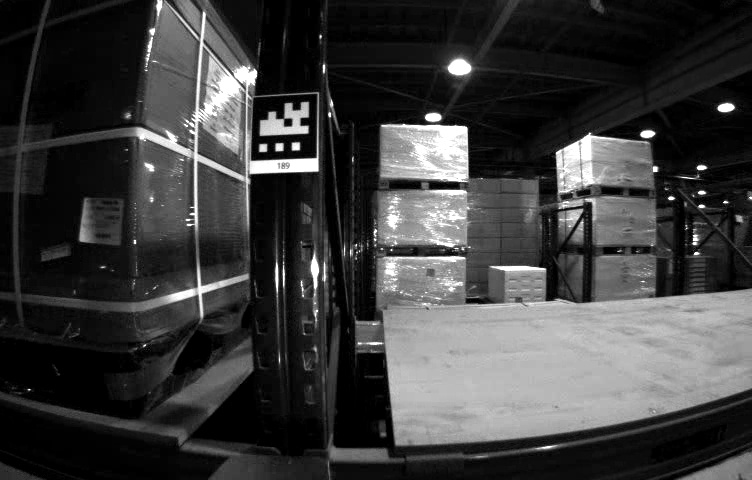True Barcode: (83, 195, 120, 241)
